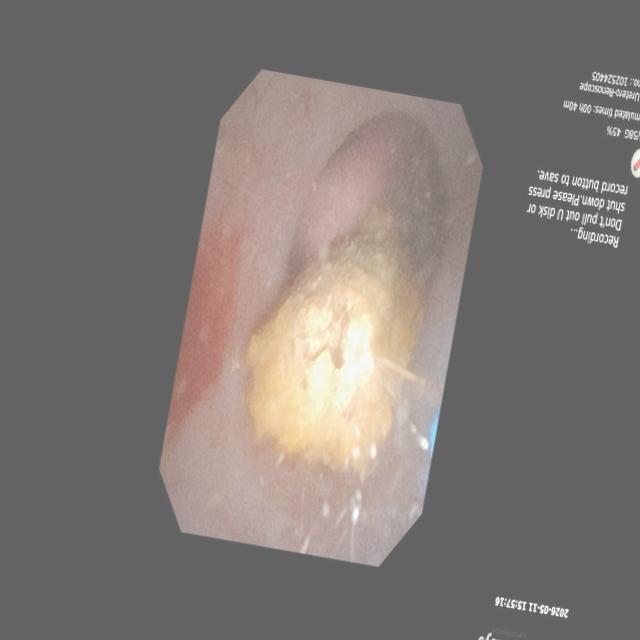laser-fibre: (375, 357, 443, 457)
laser_dot: (341, 318, 373, 385)
stone-new: (245, 210, 423, 470)
